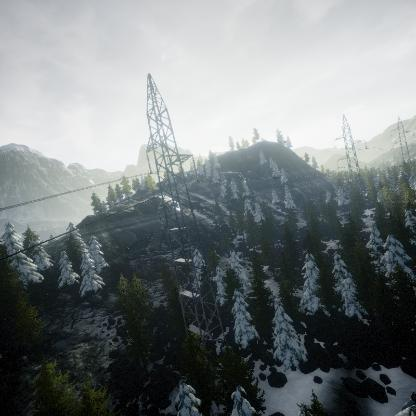tower: (140, 72, 226, 346), (332, 113, 370, 180), (392, 117, 413, 163)
